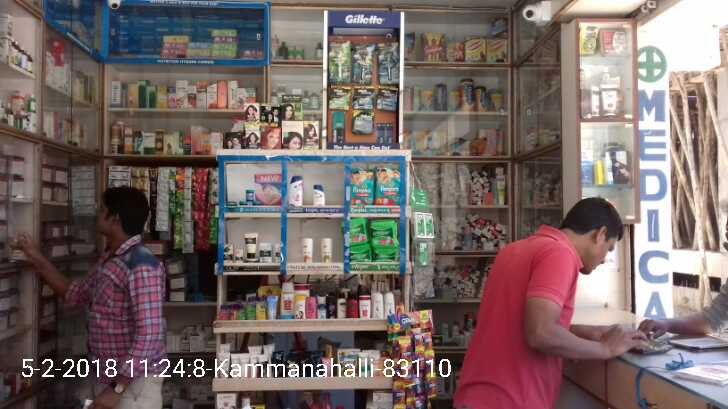beauty: (328, 40, 351, 84), (378, 42, 399, 85), (352, 42, 373, 85), (327, 86, 350, 112), (375, 86, 397, 113), (288, 175, 304, 207), (355, 86, 375, 111), (242, 231, 257, 264), (353, 110, 372, 135), (332, 112, 346, 144), (319, 238, 333, 268), (377, 121, 392, 146), (221, 242, 234, 269), (302, 237, 314, 266), (261, 244, 273, 269), (312, 183, 323, 208), (232, 248, 243, 265)
pharmacy: (372, 163, 405, 208), (367, 218, 405, 250), (349, 165, 377, 204), (370, 246, 402, 260), (245, 189, 255, 201)
